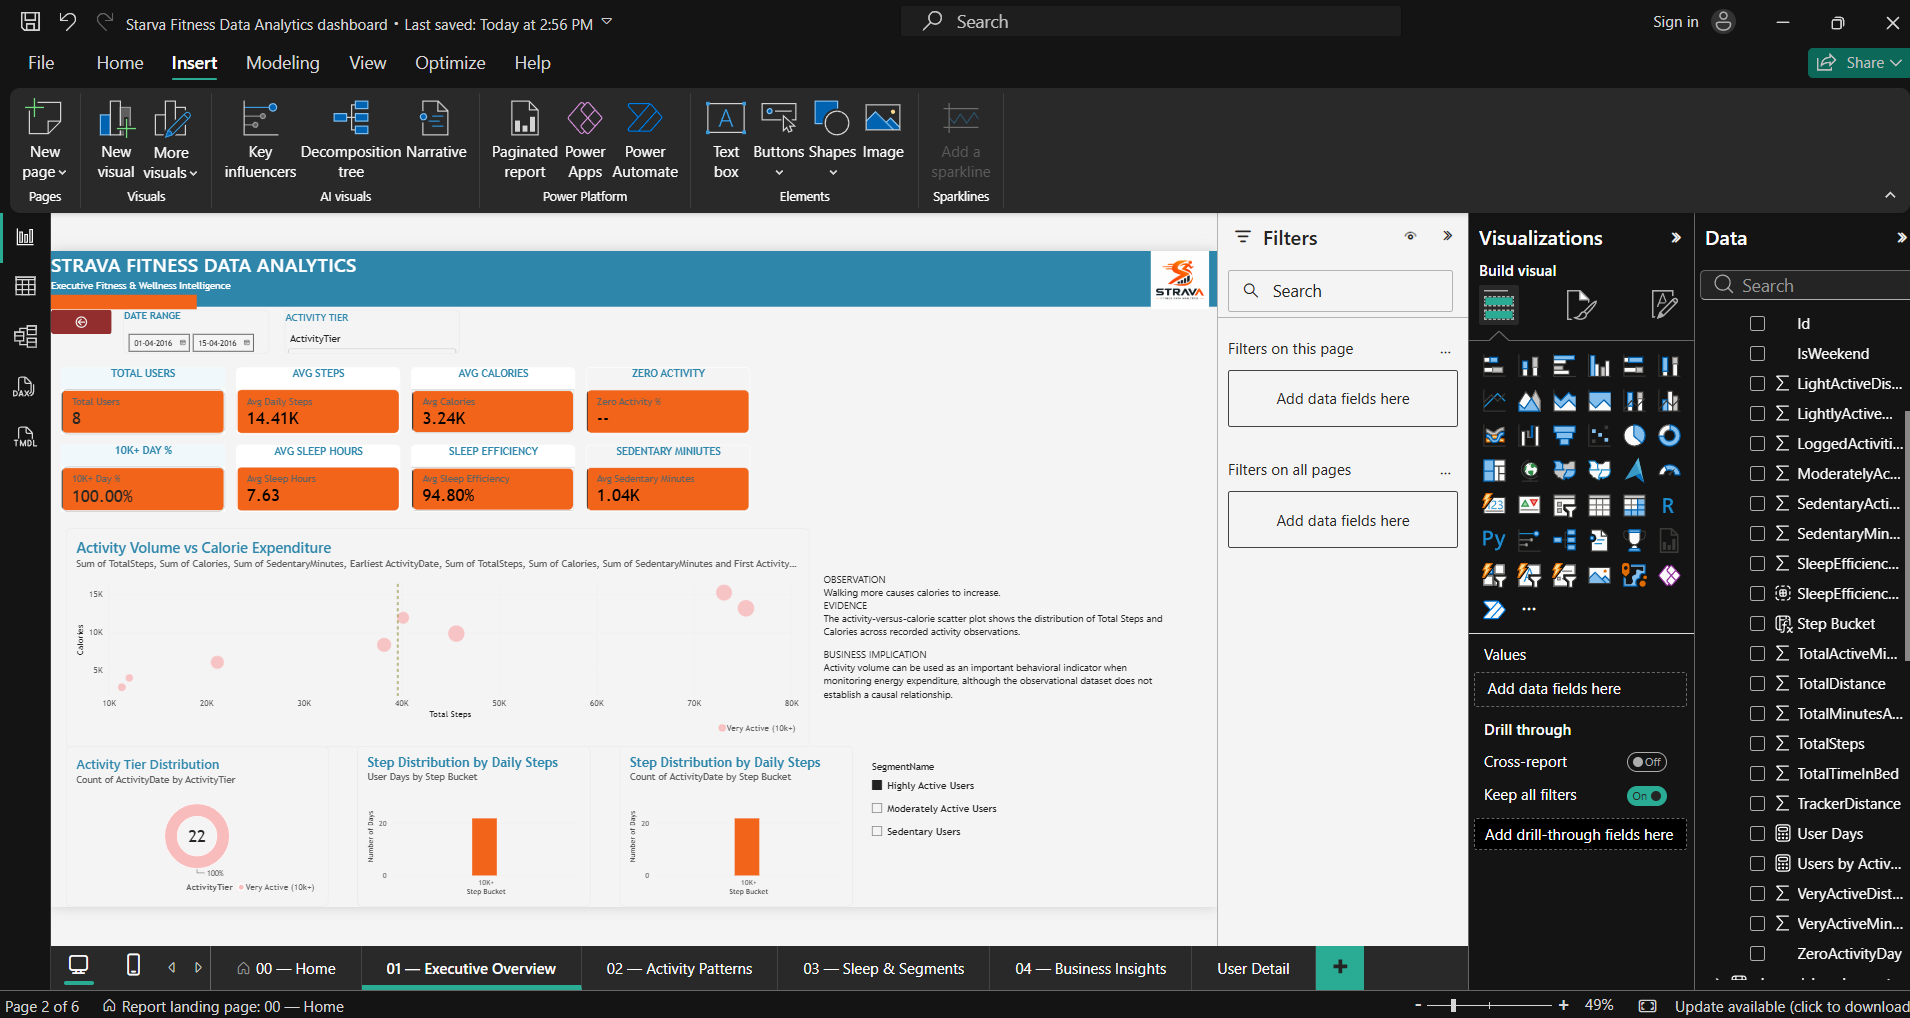

The page's visual inventory and layout, read from the dashboard file:
{"tool":"powerbi","page":{"name":"01 — Executive Overview","canvas":[1920,1080],"ordinal":1},"visuals":[{"type":"shape","box":[0,-8,1920,100],"z":0},{"type":"textbox","box":[0,0,1872,96],"z":1000},{"type":"textbox","box":[0,48,1704,24],"z":2000},{"type":"shape","box":[0,72,240,24],"z":3000},{"type":"image","box":[1800,0,120,96],"z":4000},{"type":"cardVisual","title":"TOTAL USERS","fields":{"Data":["Measure_Table.Total Users"]},"box":[16,192,270,110],"z":5000},{"type":"cardVisual","title":"AVG STEPS","fields":{"Data":["Measure_Table.Avg Daily Steps"]},"box":[304,192,270,110],"z":6000},{"type":"cardVisual","title":"AVG CALORIES","fields":{"Data":["Measure_Table.Avg Calories"]},"box":[592,192,270,110],"z":7000},{"type":"cardVisual","title":"ZERO ACTIVITY","fields":{"Data":["Measure_Table.Zero Activity %"]},"box":[880,192,270,110],"z":8000},{"type":"cardVisual","title":"10K+ DAY %","fields":{"Data":["Measure_Table.10K+ Day %"]},"box":[16,320,270,110],"z":9000},{"type":"cardVisual","title":"AVG SLEEP HOURS","fields":{"Data":["Measure_Table.Avg Sleep Hours"]},"box":[304,320,270,110],"z":10000},{"type":"cardVisual","title":"SLEEP EFFICIENCY","fields":{"Data":["Measure_Table.Avg Sleep Efficiency"]},"box":[592,320,270,110],"z":11000},{"type":"cardVisual","title":"SEDENTARY MINIUTES","fields":{"Data":["Measure_Table.Avg Sedentary Minutes"]},"box":[880,320,270,110],"z":12000},{"type":"slicer","title":"DATE RANGE","fields":{"Values":["DateDim.Date"]},"box":[120,96,240,72],"z":13000},{"type":"slicer","title":"ACTIVITY TIER","fields":{"Values":["cleaned_daily_master.ActivityTier"]},"box":[384,96,288,72],"z":14000},{"type":"donutChart","title":"Activity Tier Distribution","fields":{"Category":["cleaned_daily_master.ActivityTier"],"Y":["CountNonNull(cleaned_daily_master.ActivityDate)"]},"box":[24,816,432,264],"z":15000},{"type":"scatterChart","title":"Activity Volume vs Calorie Expenditure","fields":{"X":["Sum(cleaned_daily_master.TotalSteps)"],"Y":["Sum(cleaned_daily_master.Calories)"],"Size":["Sum(cleaned_daily_master.SedentaryMinutes)"],"Series":["cleaned_daily_master.ActivityTier"],"Category":["cleaned_daily_master.Id"]},"box":[24,456,1224,360],"z":16000},{"type":"clusteredColumnChart","title":"Step Distribution by Daily Steps","fields":{"Category":["Step Bucket Dim.Step Bucket"],"Y":["cleaned_daily_master.User Days"]},"box":[504,816,384,264],"z":17000},{"type":"clusteredColumnChart","title":"Step Distribution by Daily Steps","fields":{"Y":["CountNonNull(cleaned_daily_master.ActivityDate)"],"Category":["cleaned_daily_master.Step Bucket"]},"box":[936,816,384,264],"z":18000},{"type":"slicer","title":"Segment Profile Summary","fields":{"Values":["user_segments.SegmentName"]},"box":[1344,840,528,240],"z":19000},{"type":"actionButton","box":[0,96,100,40],"z":20000},{"type":"textbox","box":[1272,528,576,240],"z":21000}]}

Visuals, with their boxes on the page's 1920x1080 design canvas (x1, y1, x2, y2). These are canvas units, not pixel positions in the 1910x1018 screenshot, which may show the page scaled, cropped or inside an application window:
shape: box(0, -8, 1920, 92)
textbox: box(0, 0, 1872, 96)
textbox: box(0, 48, 1704, 72)
shape: box(0, 72, 240, 96)
image: box(1800, 0, 1920, 96)
"TOTAL USERS" cardVisual: box(16, 192, 286, 302)
"AVG STEPS" cardVisual: box(304, 192, 574, 302)
"AVG CALORIES" cardVisual: box(592, 192, 862, 302)
"ZERO ACTIVITY" cardVisual: box(880, 192, 1150, 302)
"10K+ DAY %" cardVisual: box(16, 320, 286, 430)
"AVG SLEEP HOURS" cardVisual: box(304, 320, 574, 430)
"SLEEP EFFICIENCY" cardVisual: box(592, 320, 862, 430)
"SEDENTARY MINIUTES" cardVisual: box(880, 320, 1150, 430)
"DATE RANGE" slicer: box(120, 96, 360, 168)
"ACTIVITY TIER" slicer: box(384, 96, 672, 168)
"Activity Tier Distribution" donutChart: box(24, 816, 456, 1080)
"Activity Volume vs Calorie Expenditure" scatterChart: box(24, 456, 1248, 816)
"Step Distribution by Daily Steps" clusteredColumnChart: box(504, 816, 888, 1080)
"Step Distribution by Daily Steps" clusteredColumnChart: box(936, 816, 1320, 1080)
"Segment Profile Summary" slicer: box(1344, 840, 1872, 1080)
actionButton: box(0, 96, 100, 136)
textbox: box(1272, 528, 1848, 768)
